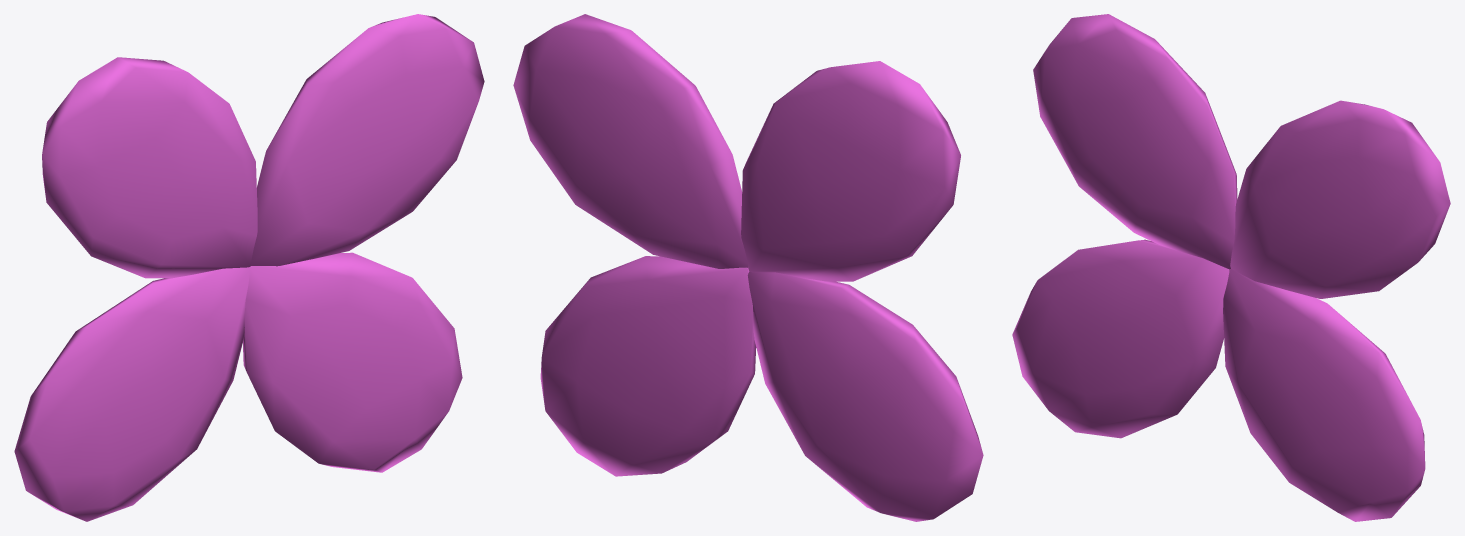
The model's file is red flower.fbx.
The picture shows the model from 3 angles, left to right: view 1: azimuth 30°, elevation 25°; view 2: azimuth 150°, elevation 25°; view 3: azimuth 330°, elevation 25°; orthographic projection. The views are drawn at different scales.
Visible parts, largest first — view 1: flower1_4.002, flower1_2.002, flower1_1.002, flower1_3.002; view 2: flower1_4.002, flower1_2.002, flower1_1.002, flower1_3.002; view 3: flower1_1.002, flower1_3.002, flower1_2.002, flower1_4.002.
Part boxes in pixels (x1,y1,x2,y2): flower1_4.002: [14, 267, 249, 521]; flower1_2.002: [251, 14, 484, 266]; flower1_1.002: [42, 57, 257, 278]; flower1_3.002: [243, 252, 462, 472]; flower1_4.002: [747, 271, 983, 521]; flower1_2.002: [513, 14, 747, 268]; flower1_1.002: [741, 61, 960, 281]; flower1_3.002: [540, 256, 756, 476]; flower1_1.002: [1033, 14, 1237, 268]; flower1_3.002: [1223, 269, 1425, 521]; flower1_2.002: [1230, 100, 1450, 298]; flower1_4.002: [1012, 239, 1229, 438].
Size of the model in its own units: 44.18 by 43.12 by 3.73.
